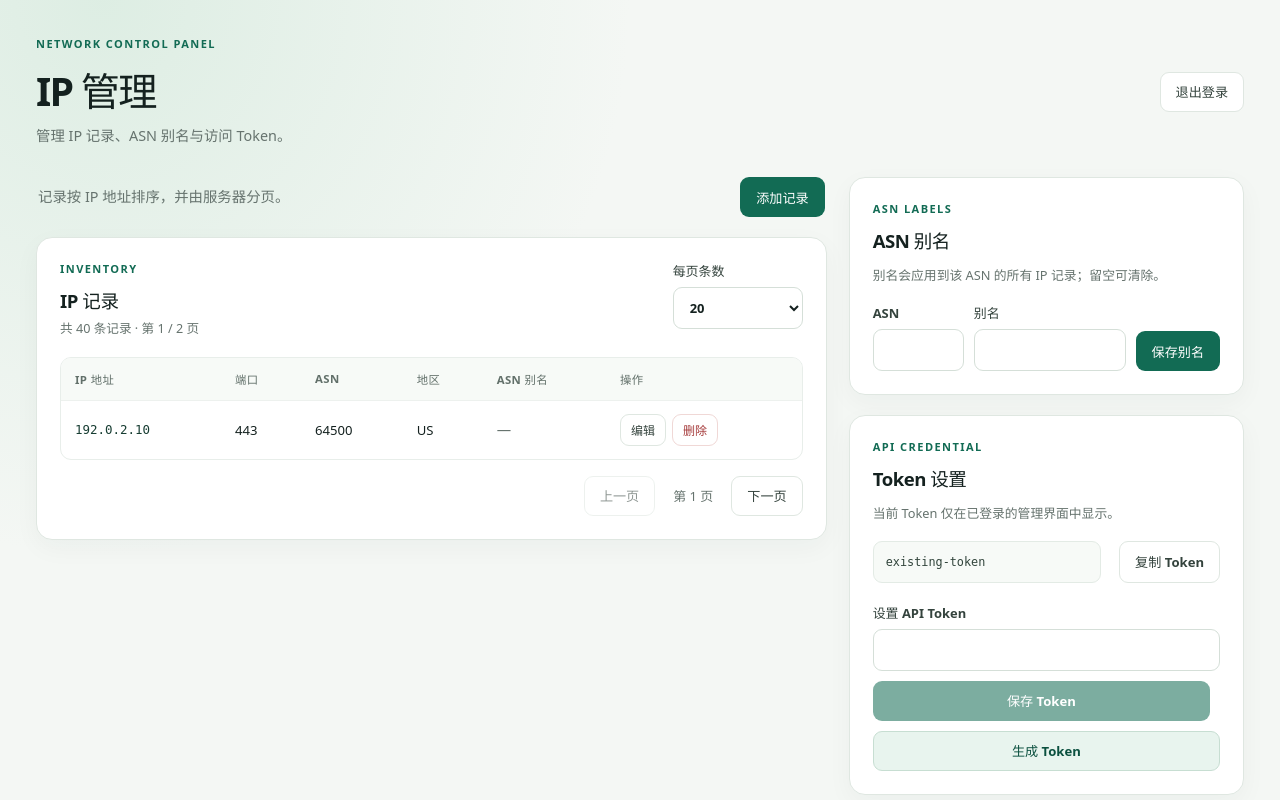
paginated records › requests the next page instead of preloading records
The width and height of the screenshot is (1280, 800).
Expected: the text "192.0.2.10" is shown, [61,400,221,459]
Click the button "下一页": (767, 496) [731,476,803,516]
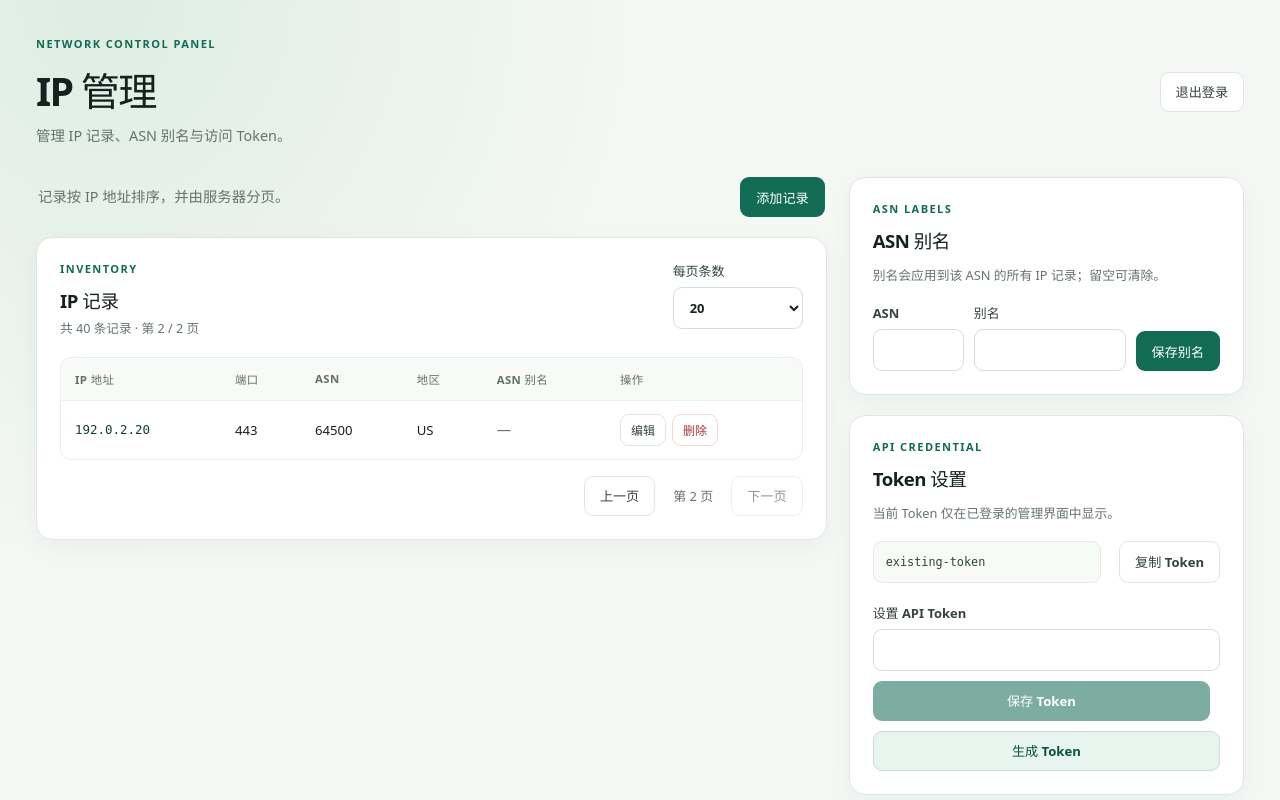
Expected: the text "192.0.2.20" is shown, [61,400,221,459]
Expected: the text "192.0.2.10" is gone
